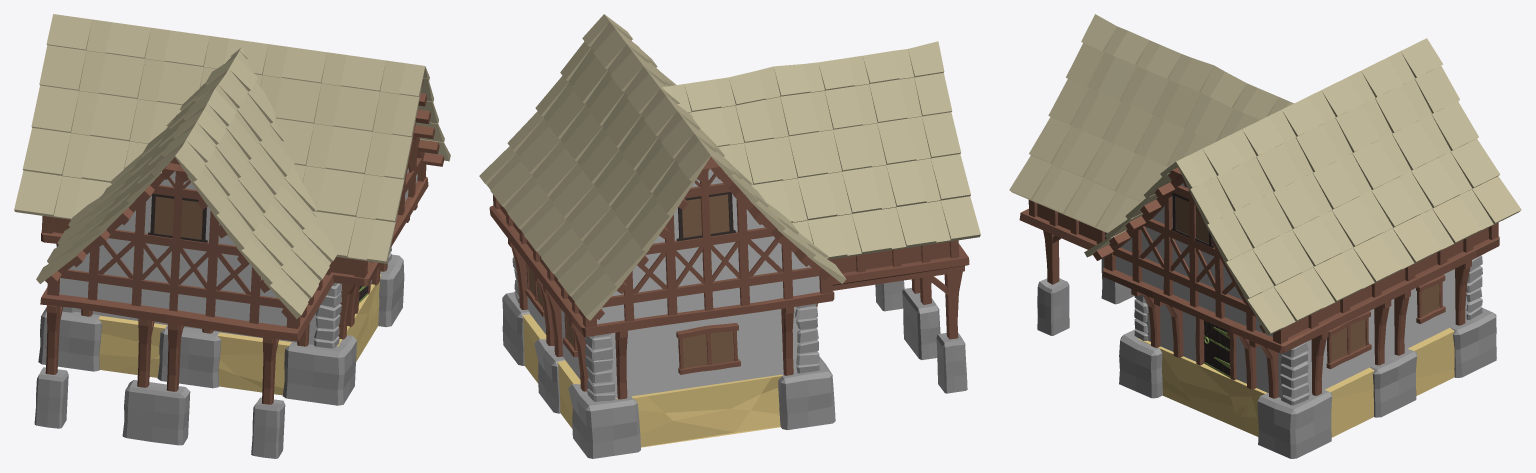
File: Casa.fbx
3 renders of one model, left to right at view 1: azimuth 30°, elevation 25°; view 2: azimuth 150°, elevation 25°; view 3: azimuth 270°, elevation 25°, orthographic. The views are drawn at different scales.
Visible parts, largest first — view 1: madera1E.003; view 2: madera1E.003; view 3: madera1E.003.
Part boxes in pixels (x1=…): madera1E.003: x1=14, y1=14, x2=450, y2=458; madera1E.003: x1=479, y1=14, x2=980, y2=458; madera1E.003: x1=1009, y1=14, x2=1521, y2=458.
Bounding box in the file's own units: 1.18 × 0.7565 × 1.2.
